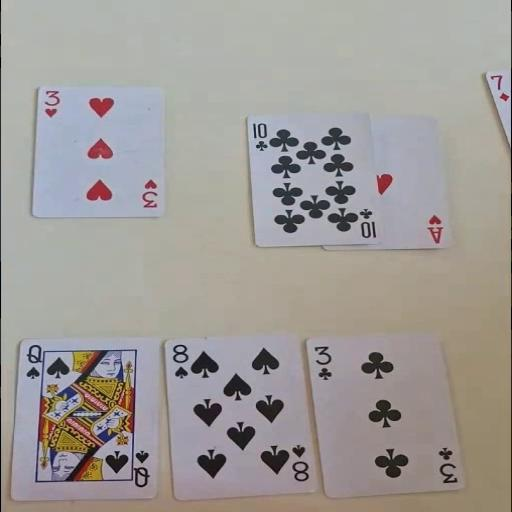10: (250, 121, 270, 152), (358, 207, 377, 239)
3: (436, 445, 460, 484), (312, 344, 334, 381), (138, 177, 158, 208), (41, 88, 61, 118)
7: (488, 73, 510, 102)
8: (289, 442, 310, 482), (170, 342, 190, 379)
A: (426, 213, 444, 244)
Q: (130, 448, 151, 489), (23, 342, 43, 380)
